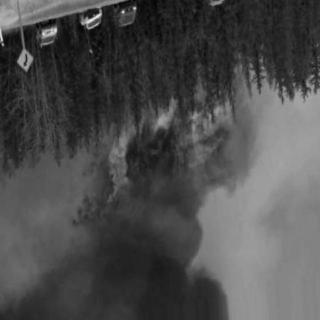Fire: (63, 95, 235, 227)
Smoke: (1, 193, 228, 320), (216, 97, 274, 205)
